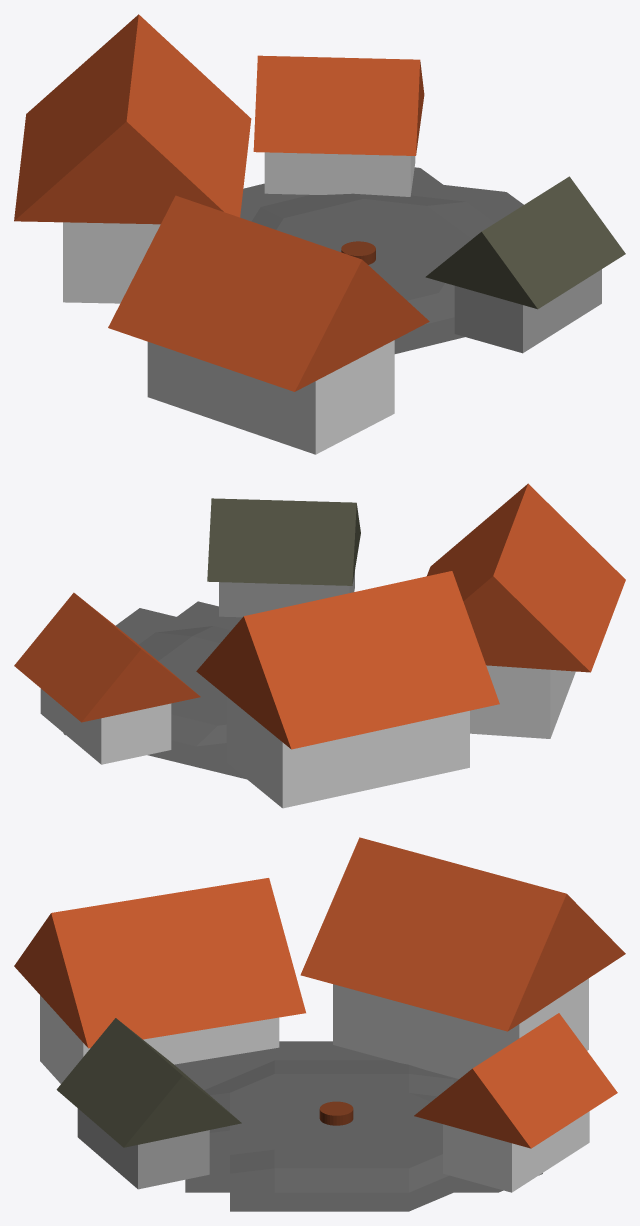
The model's file is building4.dae.
3 renders of one model, top to bottom at view 1: azimuth 30°, elevation 25°; view 2: azimuth 150°, elevation 25°; view 3: azimuth 270°, elevation 25°, orthographic. The views are drawn at different scales.
Parts seen in each view (by area): view 1: Cube_131; view 2: Cube_131; view 3: Cube_131.
Part boxes in pixels (box(x1,y1,x2,y2)): Cube_131: box(14, 14, 625, 454); Cube_131: box(14, 483, 625, 808); Cube_131: box(14, 837, 625, 1211).
Size of the model in its own units: 1.21 by 1.34 by 0.5141.
